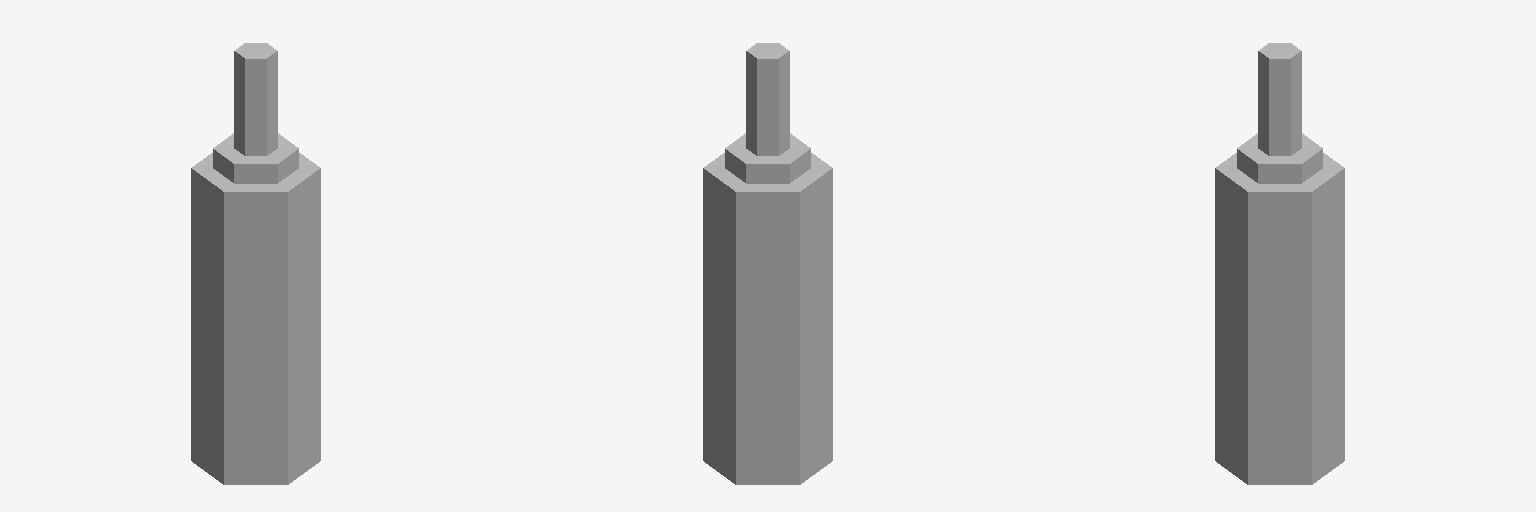
Rendered from brown_bottle.obj.
3 views of the same model, side by side, from view 1: azimuth 30°, elevation 25°; view 2: azimuth 150°, elevation 25°; view 3: azimuth 270°, elevation 25° (orthographic).
Parts seen in each view (by area): view 1: bottom, cap, top; view 2: bottom, cap, top; view 3: bottom, cap, top.
Boxes of the visible parts, box(x1,y1,x2,y2) form: bottom: box(191, 153, 320, 484); cap: box(234, 43, 277, 155); top: box(213, 133, 298, 183); bottom: box(703, 153, 832, 484); cap: box(746, 43, 789, 155); top: box(725, 133, 810, 183); bottom: box(1215, 153, 1344, 484); cap: box(1258, 43, 1301, 155); top: box(1237, 133, 1322, 183).
Bounding box in the file's own units: 0.1624 × 0.6562 × 0.1875.